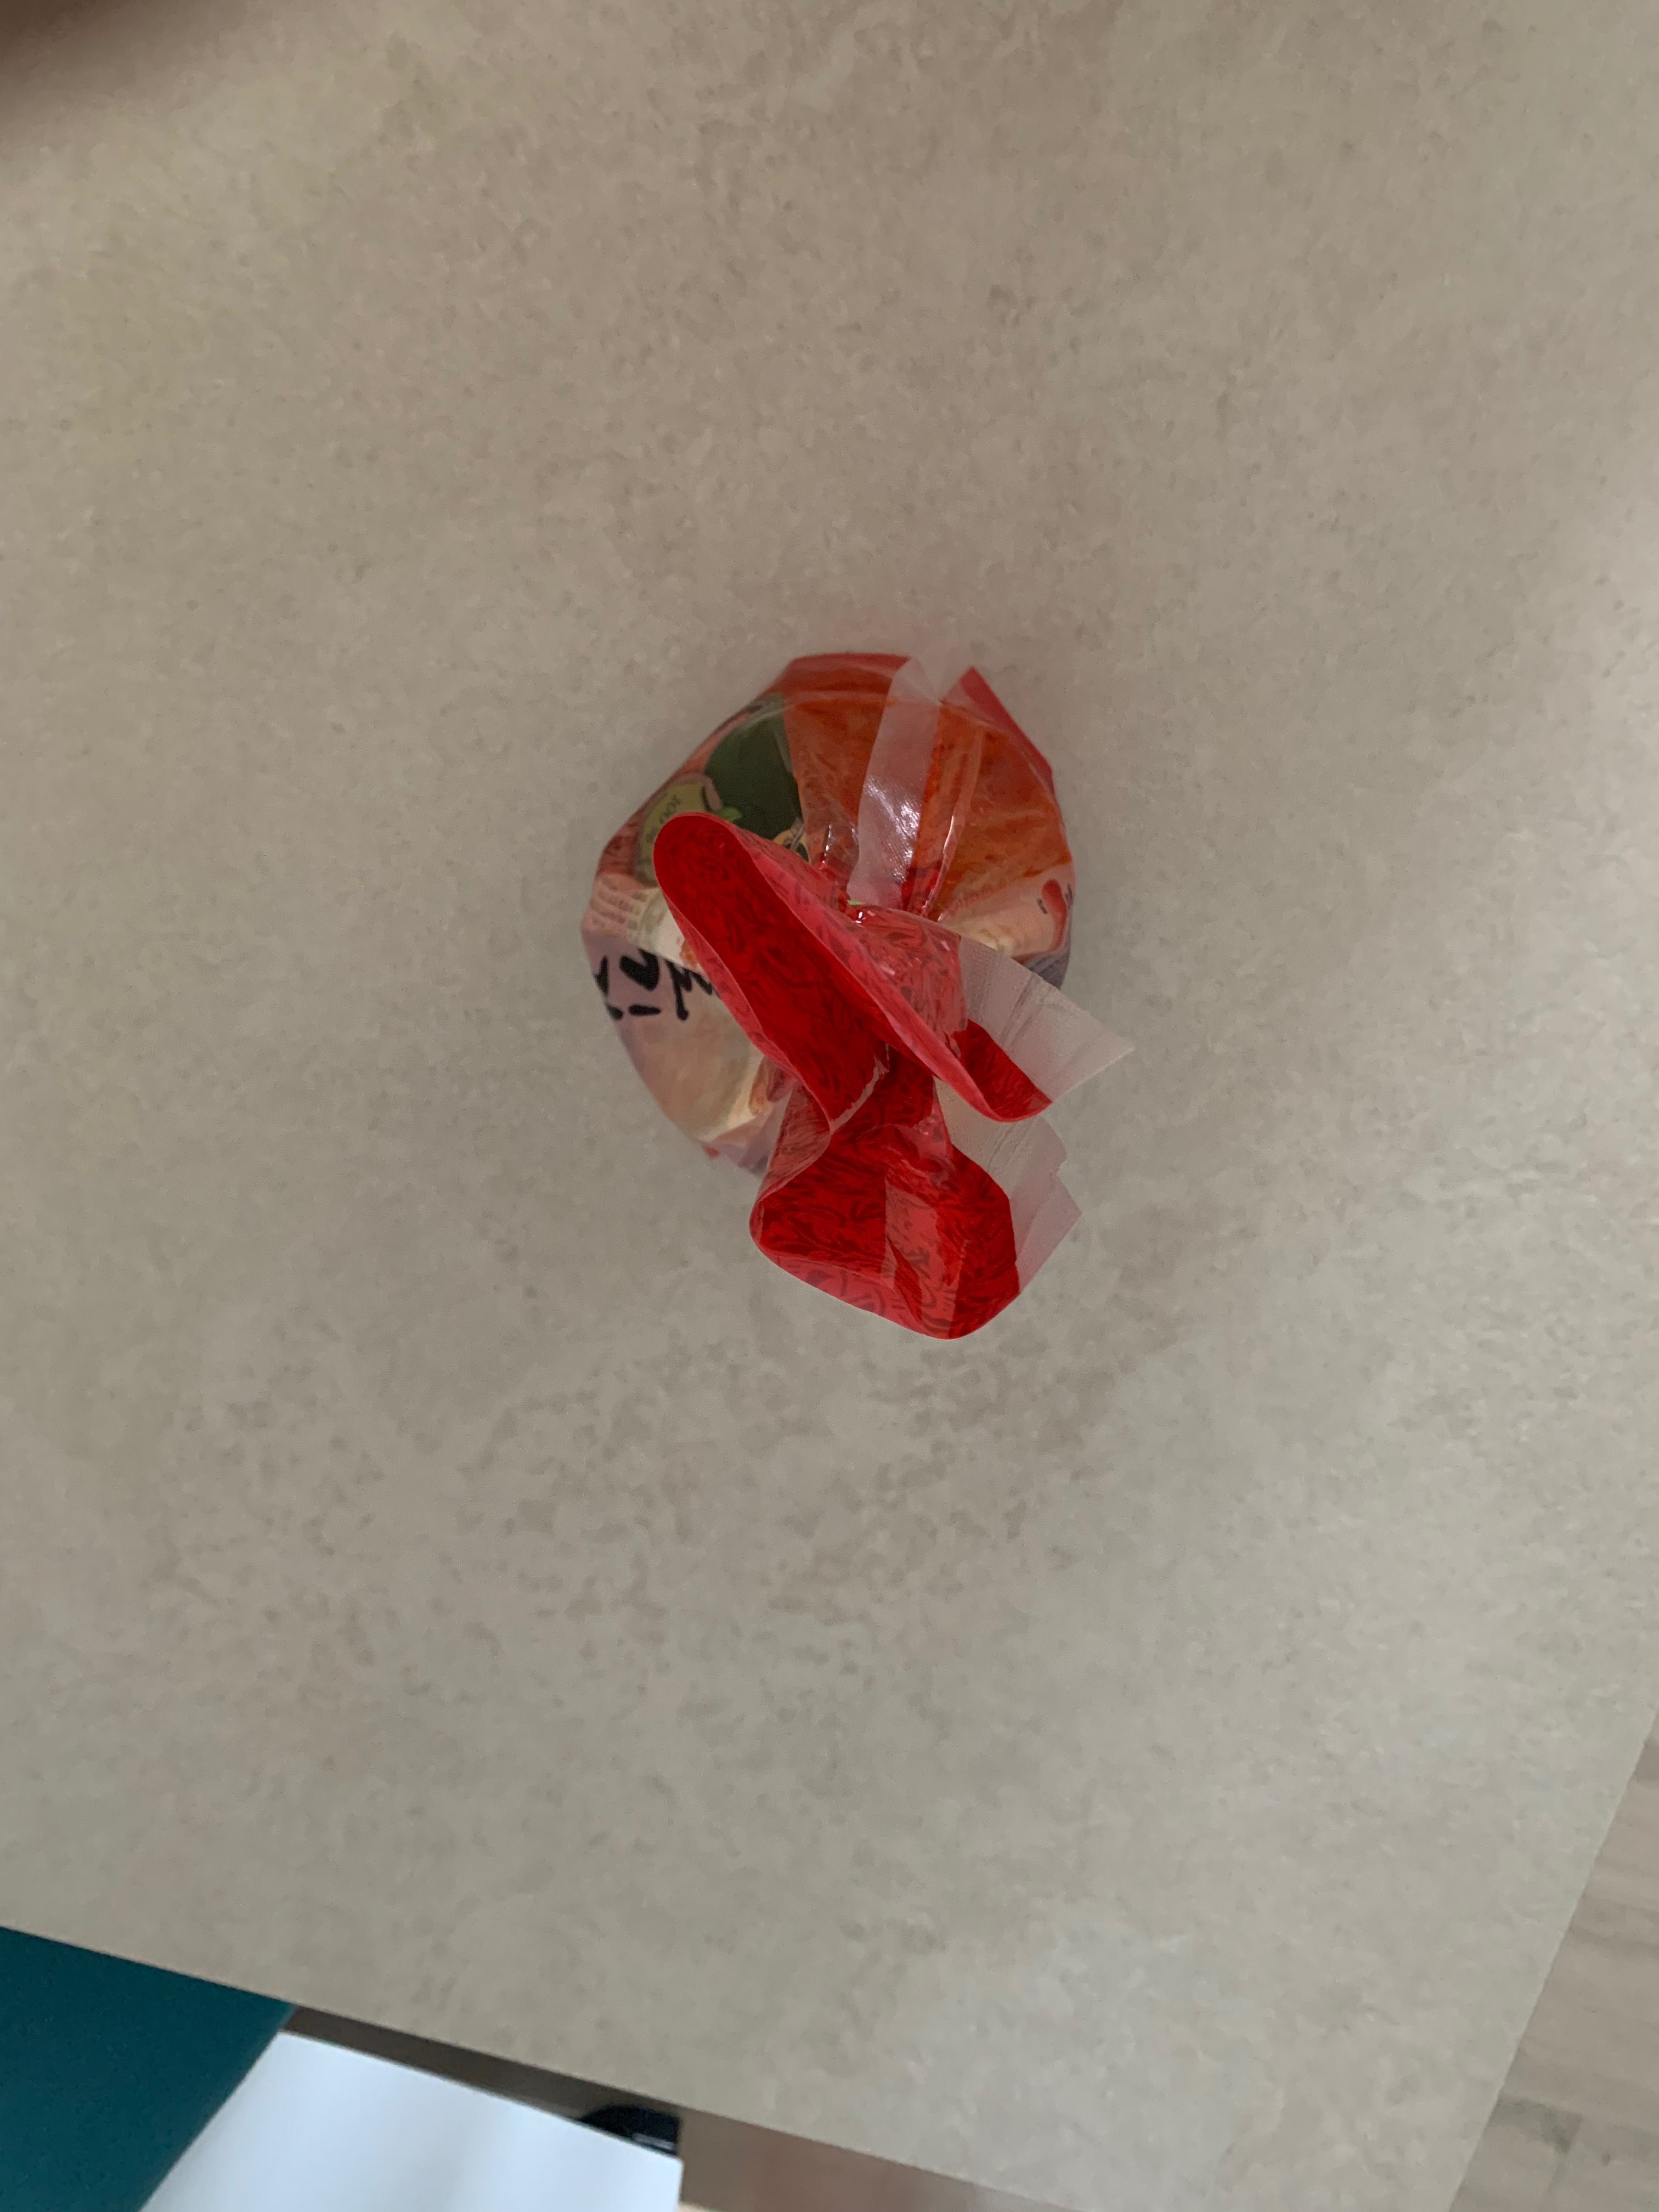kimchi: (575, 653, 1077, 1336)
